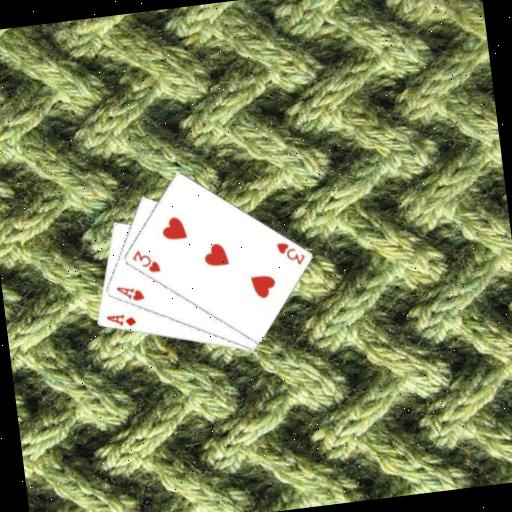3H: (273, 237, 308, 269), (129, 245, 163, 277)
AD: (103, 310, 138, 331)
AH: (113, 281, 147, 305)
